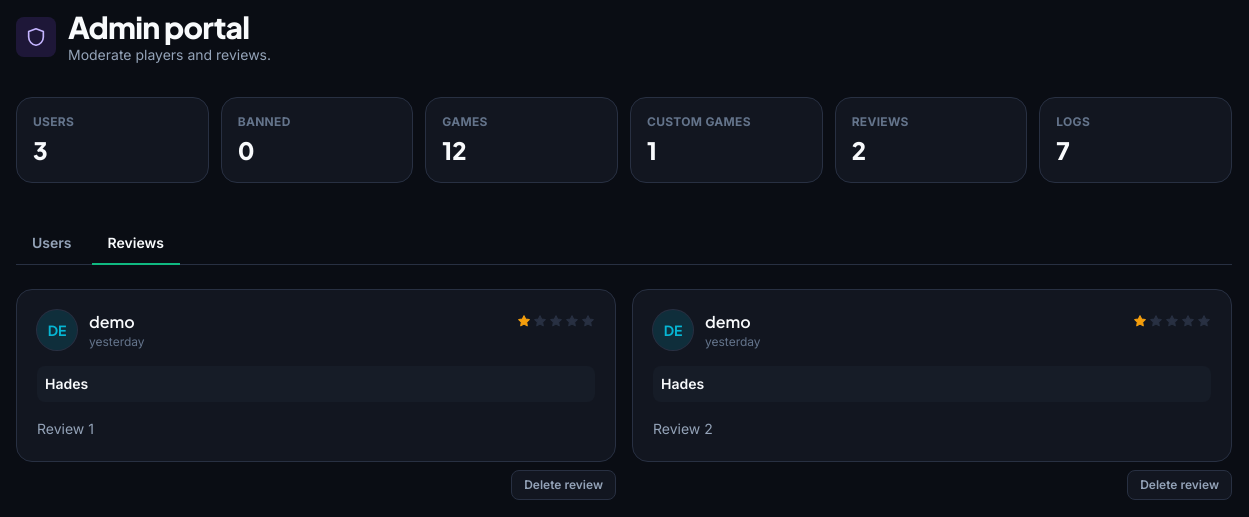
AdminView › deletes a review after confirming
Click the 1st button with test id "delete-review" at (564, 485), box [511,470,616,500]
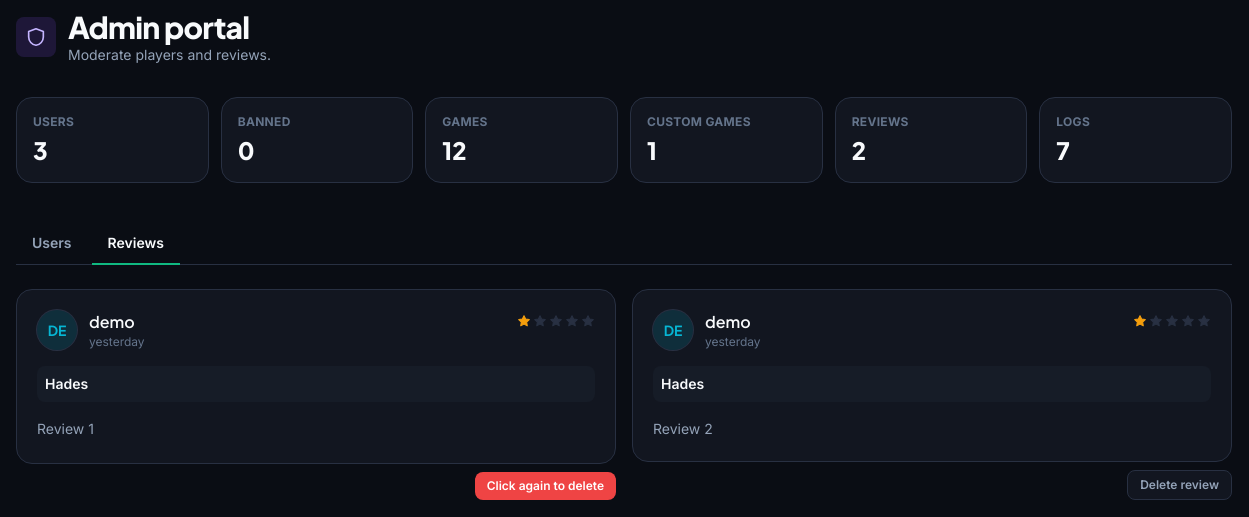
Click the button with test id "delete-review" showing "Click again to delete" at (545, 486), box [475,472,616,500]
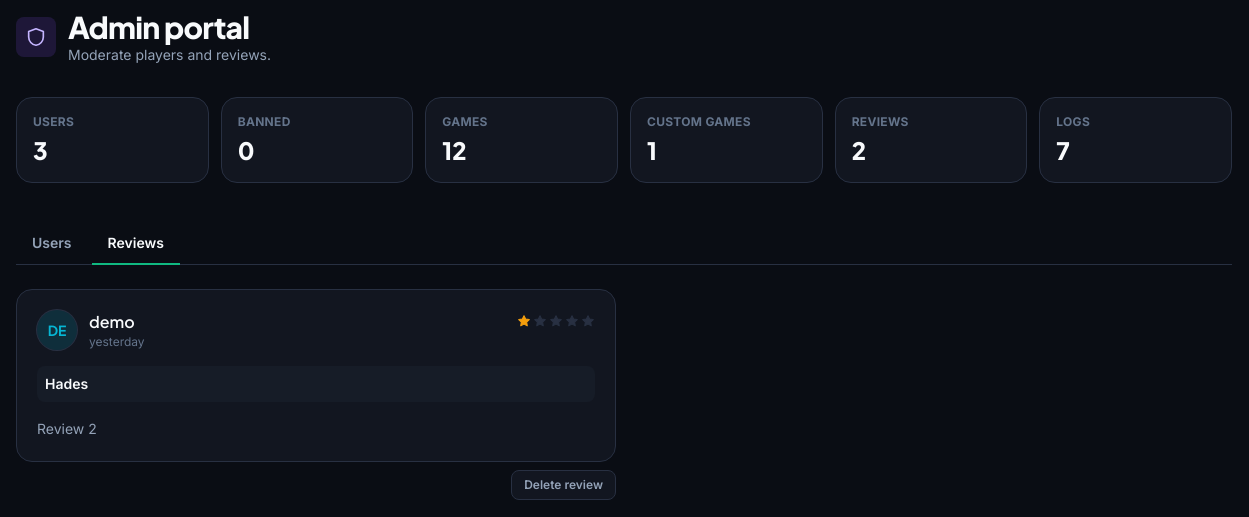
Expected: the element with test id "reviews" shows "Review 2", [37,420,97,437]
Expected: the text with test id "reviews" no longer shows "Review 1"
